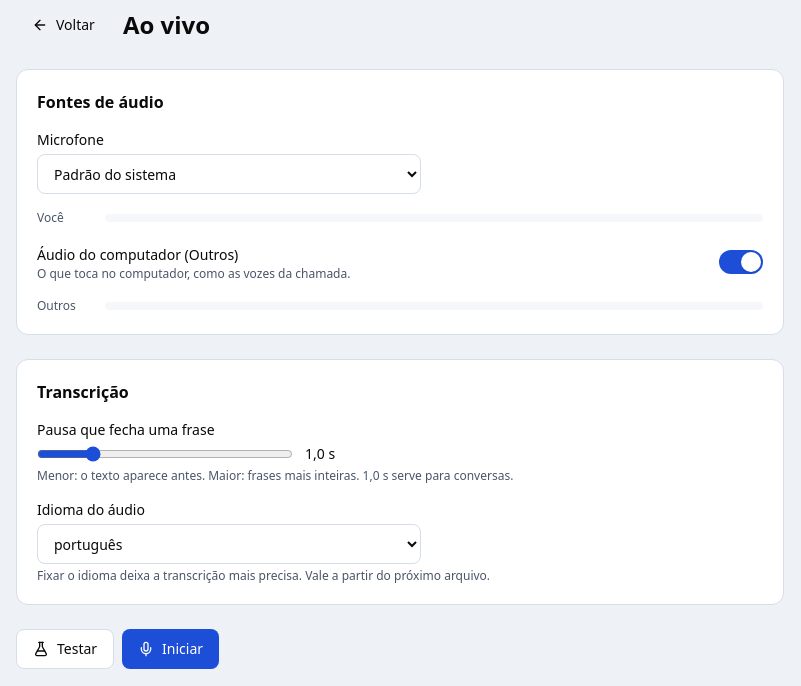
Test: Ao vivo — preparar e testar › áudio do computador e pausa salvam nas configurações
Click the switch named "Áudio do computador (Outros)": x=741, y=262 top-left (719, 250), bottom-right (763, 274)
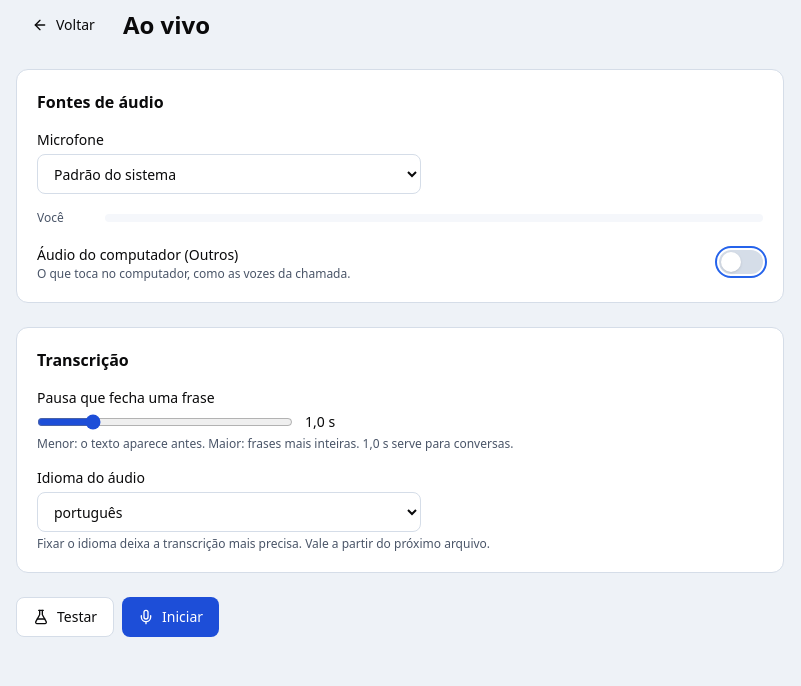
Set the slider labelled "Pausa que fecha uma frase" to "1.1": x=103, y=422 top-left (37, 414), bottom-right (293, 430)
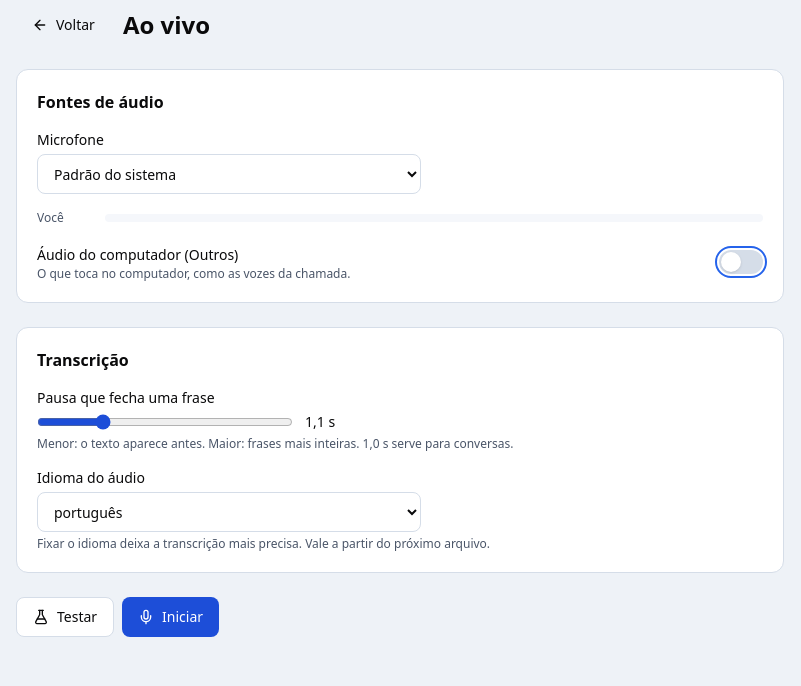
Expected: the text "1,1 s" is shown, top-left (305, 412), bottom-right (335, 432)
